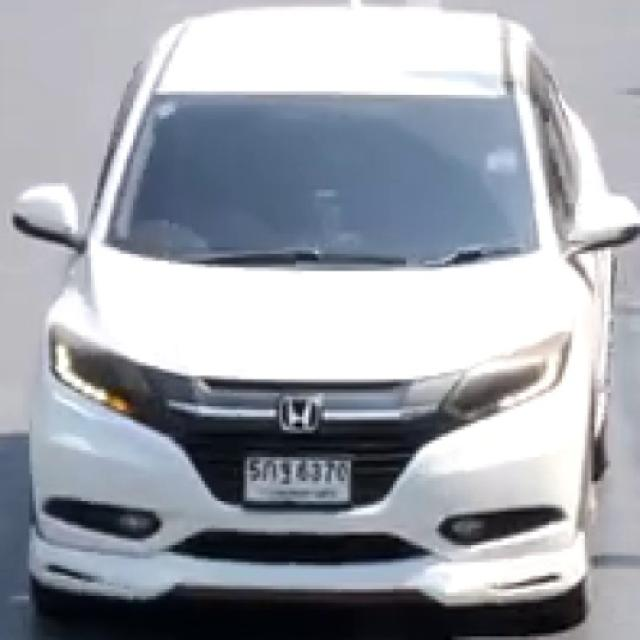plate: (240, 453, 356, 511)
